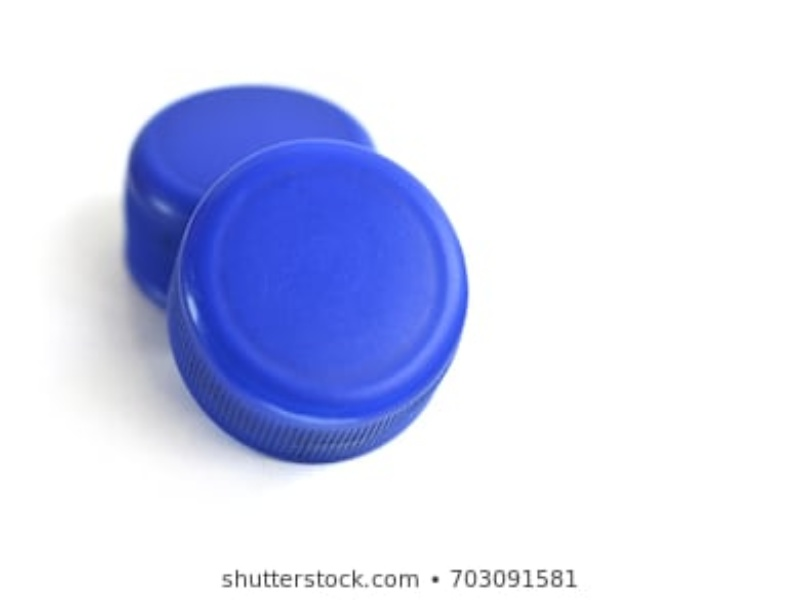bottle-cap: (162, 138, 472, 468), (121, 86, 392, 310)
